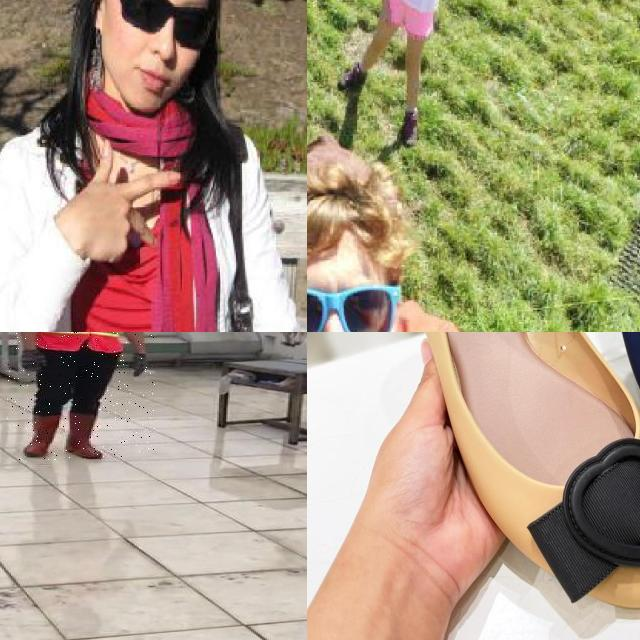Sandals: (358, 332, 640, 631), (528, 332, 640, 532)
boots: (64, 411, 107, 460), (27, 412, 59, 458)
face_nomask: (105, 0, 219, 102), (307, 278, 390, 332)
glasses: (95, 0, 220, 50), (307, 276, 401, 332)
hand_noglove: (54, 135, 194, 274)
head_nohelmet: (307, 156, 406, 269)
person: (0, 0, 295, 332), (307, 146, 509, 332), (7, 332, 155, 460)
vest: (41, 332, 127, 355)
